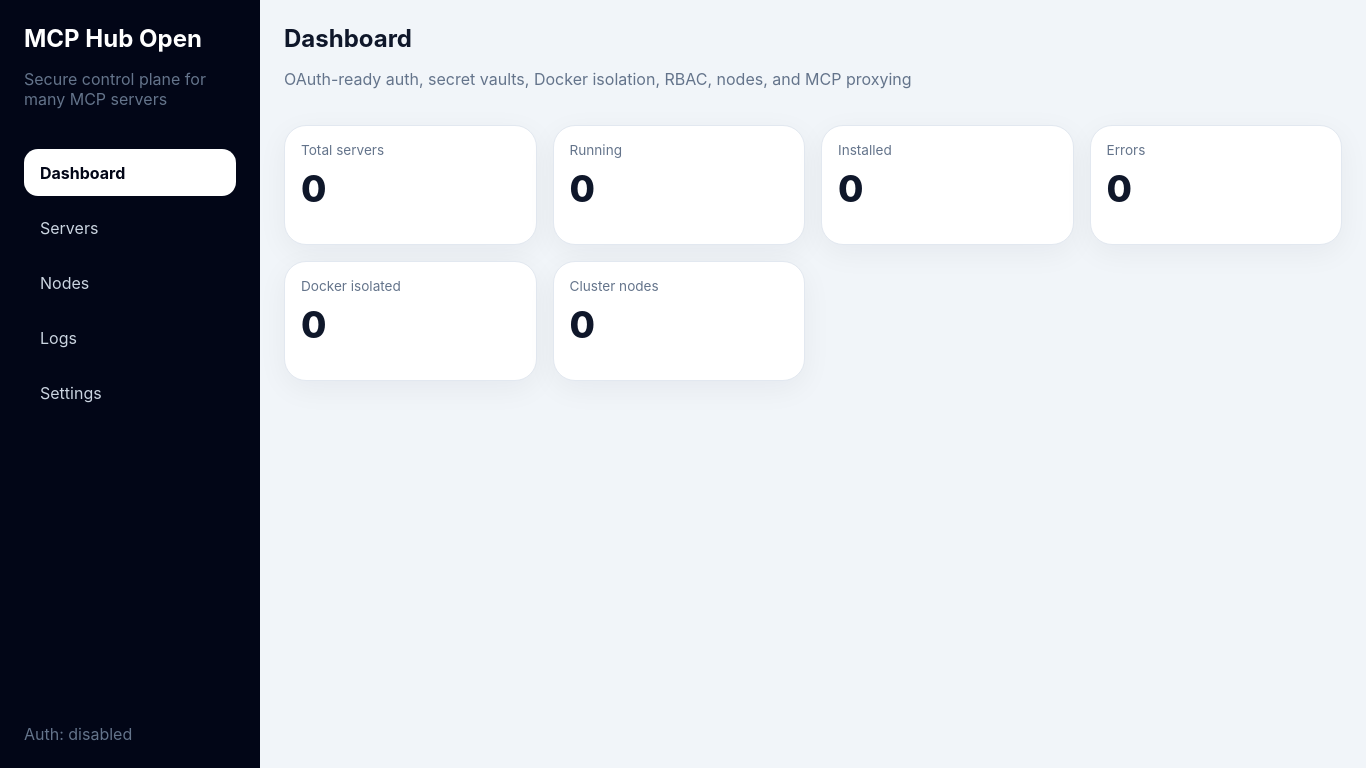
App component navigation › navigates to Settings page
Expected: the navigation bar is shown, [24,149,236,417]
Click the link "Settings". click: [71, 393]
box: [40,383,102,403]
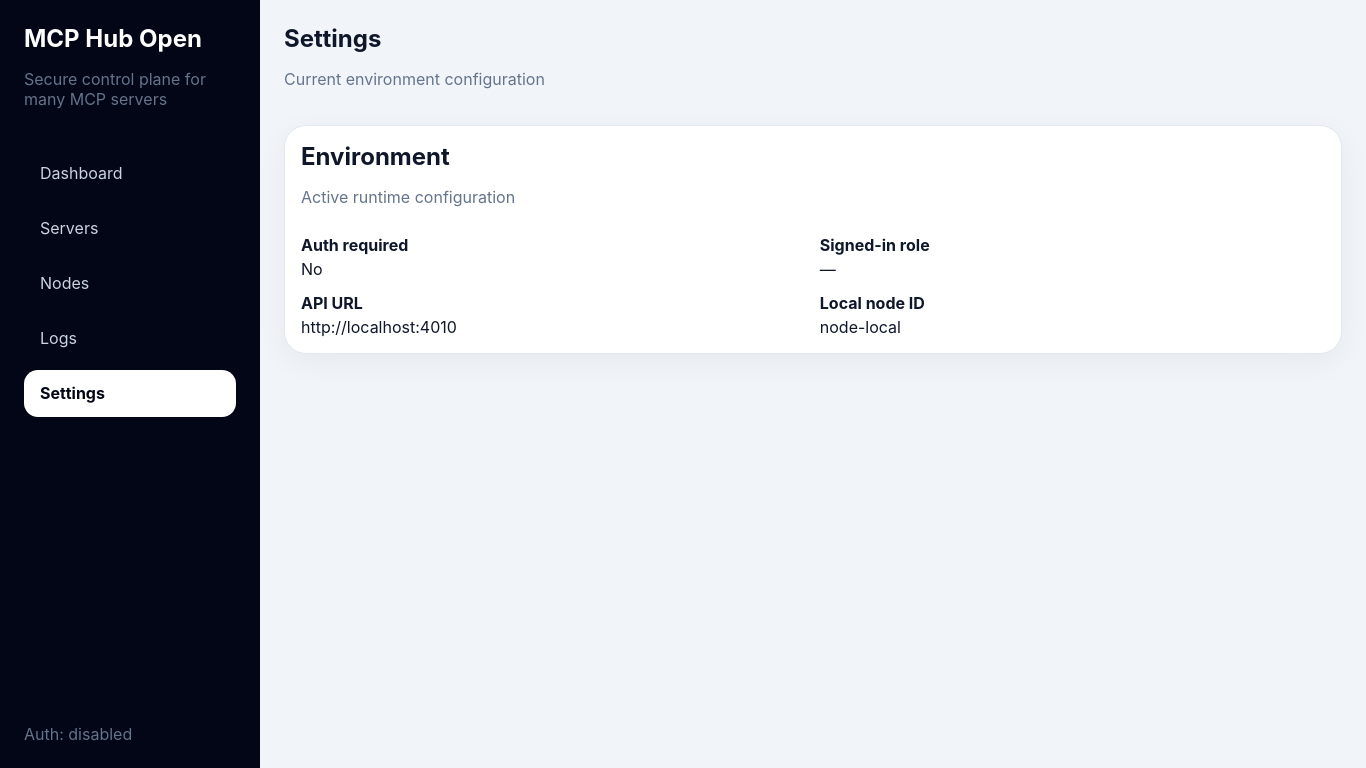
Expected: the heading "Settings" is shown, [284,24,381,53]
Expected: the text "Auth required" is shown, [301,235,408,255]
